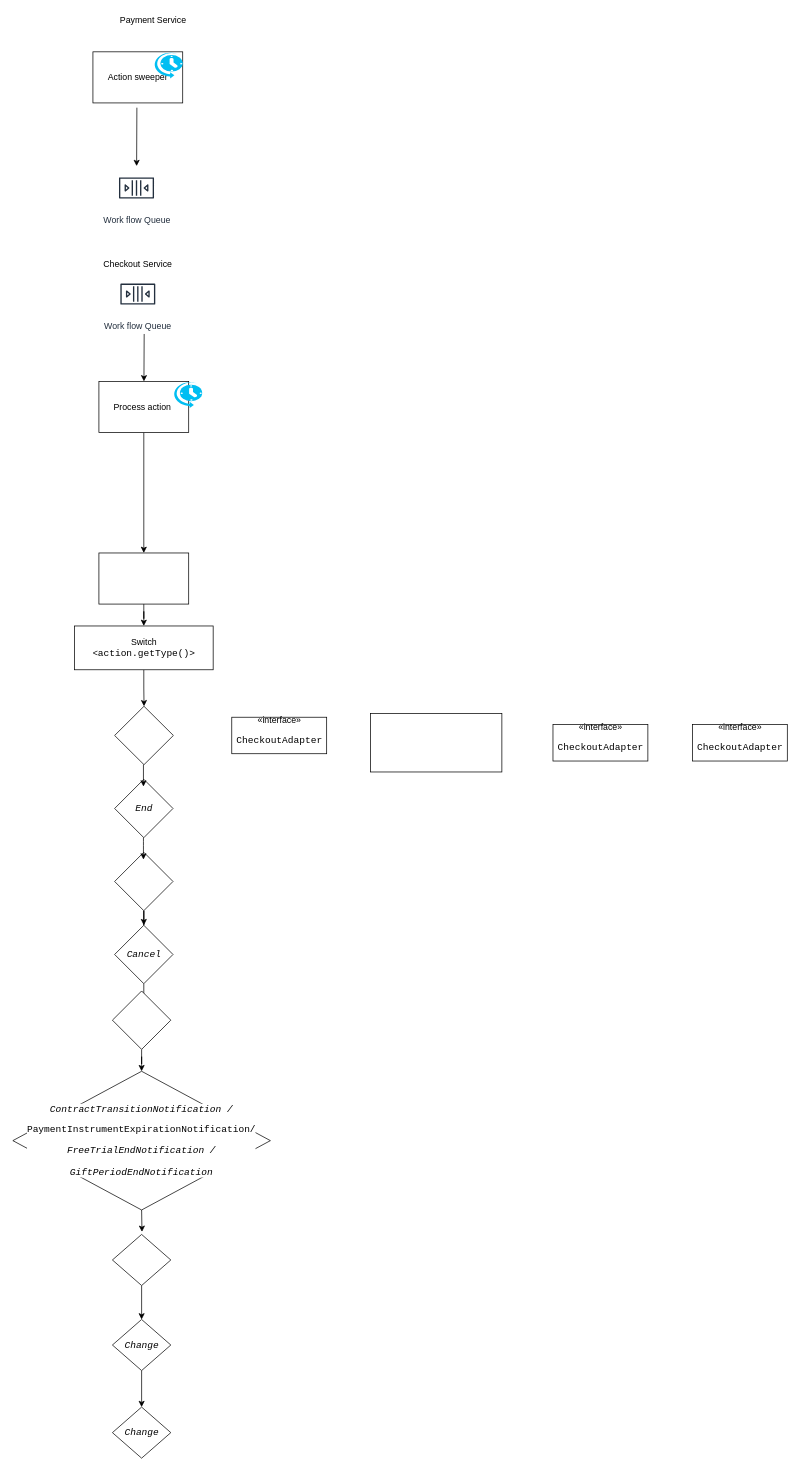
The diagram is 800 pixels wide and 1471 high, and some of its shapes have lost their labels. The shapes that lost their labels are listed below. From the top down, each one's centre as x and y in pixels, then its label:
pixel 143 578: Process action Runner
pixel 143 735: Bill/Rebill
pixel 436 742: Class GenericCheckoutAdapter
pixel 143 881: Renew
pixel 141 1019: Rollover
pixel 141 1260: Create
